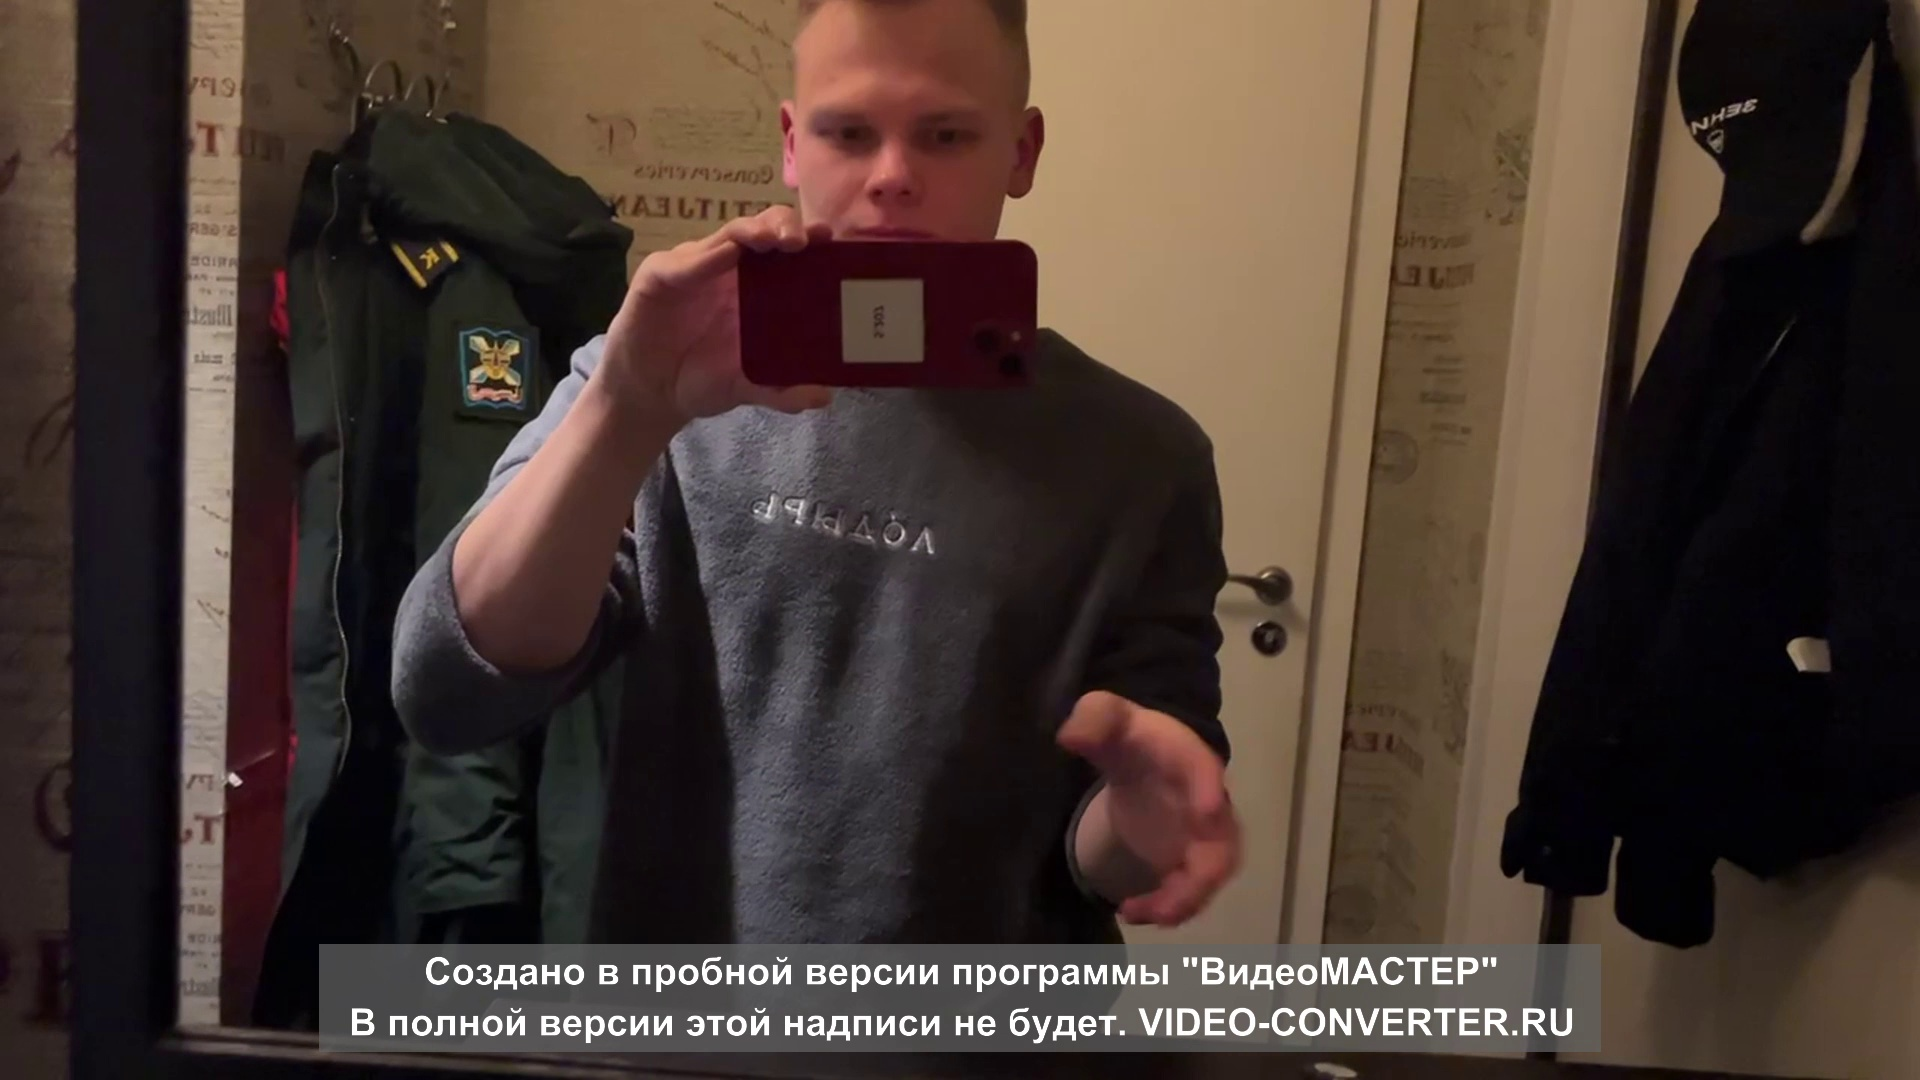Ладонь: (1060, 684, 1240, 932)
